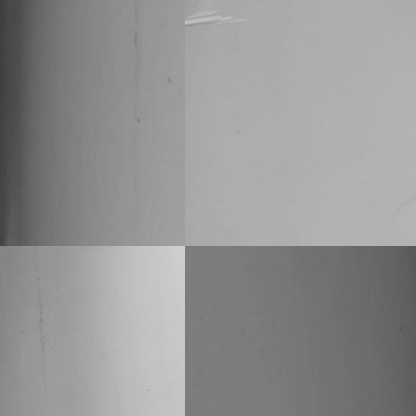sunshang: (182, 4, 237, 28)
